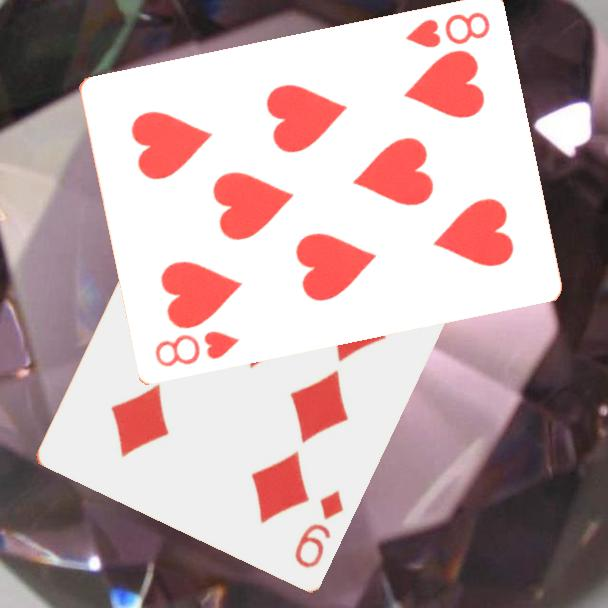d09: (291, 486, 346, 571)
h08: (401, 8, 493, 52), (151, 328, 242, 371)
